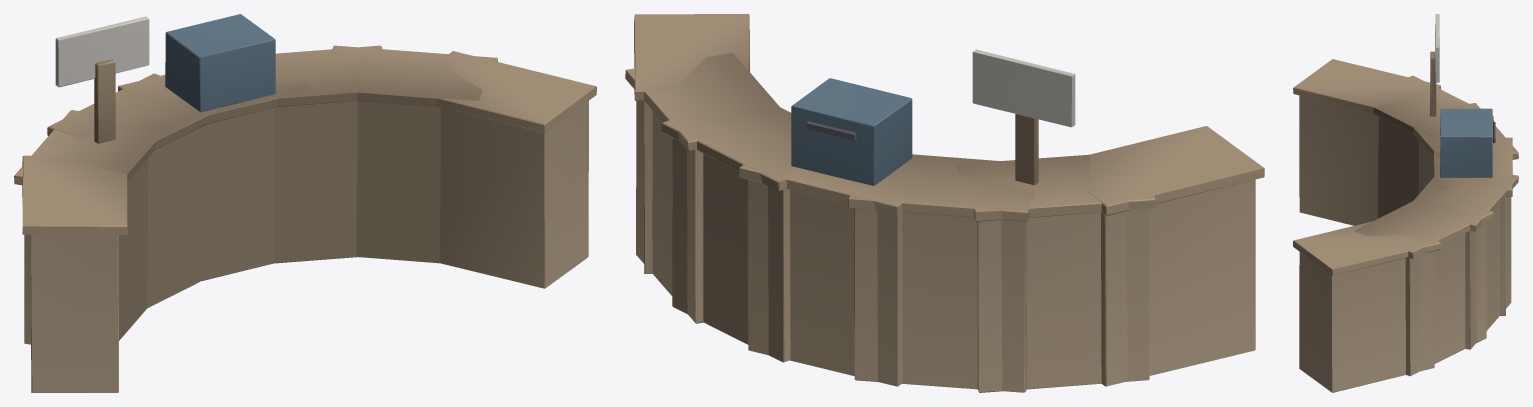
File: museum_curator_desk_low.glb
3 views of the same model, side by side, from view 1: azimuth 30°, elevation 25°; view 2: azimuth 150°, elevation 25°; view 3: azimuth 270°, elevation 25° (orthographic). The views are drawn at different scales.
Size of the model in its own units: 3.76 by 1.75 by 1.7.
